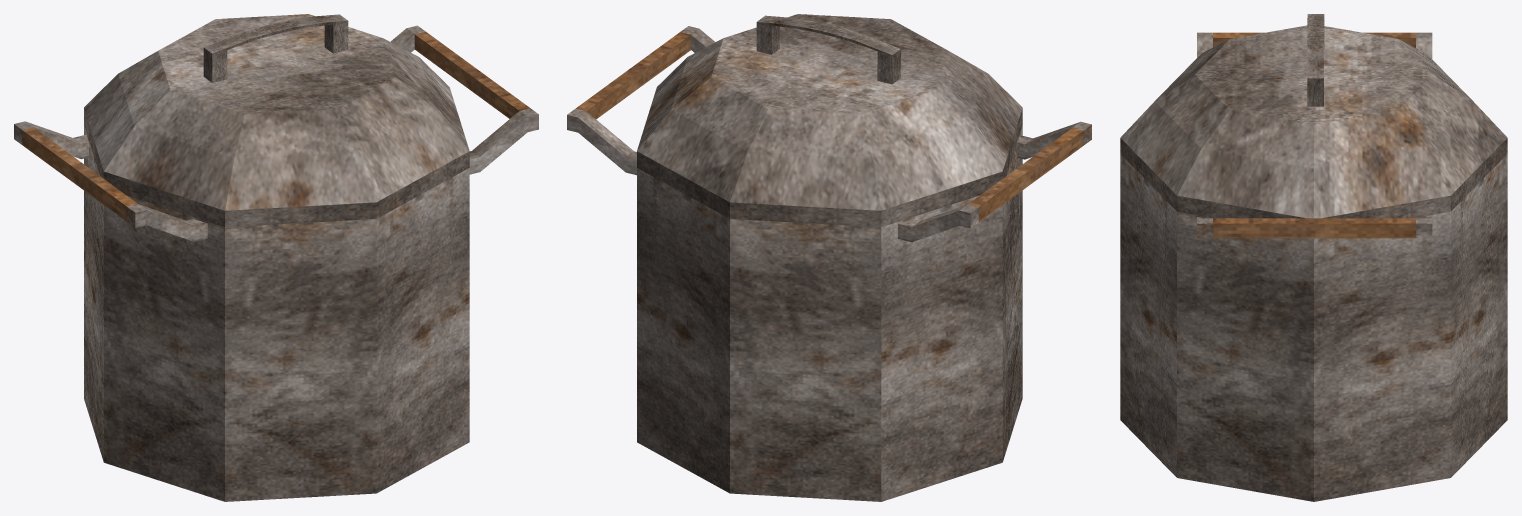
Rendered from PotClosed.fbx.
3 views of the same model, side by side, from view 1: azimuth 30°, elevation 25°; view 2: azimuth 150°, elevation 25°; view 3: azimuth 270°, elevation 25° (orthographic). The views are drawn at different scales.
Visible parts, largest first — view 1: Pot, Pot.001, Cube; view 2: Pot, Pot.001, Cube; view 3: Pot, Pot.001, Cube.
Part boxes in pixels (x1=…): Pot: x1=14, y1=25, x2=538, y2=501; Pot.001: x1=84, y1=14, x2=469, y2=227; Cube: x1=203, y1=14, x2=348, y2=82; Pot: x1=567, y1=26, x2=1091, y2=501; Pot.001: x1=637, y1=14, x2=1022, y2=227; Cube: x1=756, y1=15, x2=900, y2=84; Pot: x1=1120, y1=32, x2=1507, y2=501; Pot.001: x1=1120, y1=25, x2=1507, y2=218; Cube: x1=1307, y1=14, x2=1324, y2=106.
Bounding box in the file's own units: 2.33 × 2.17 × 2.
